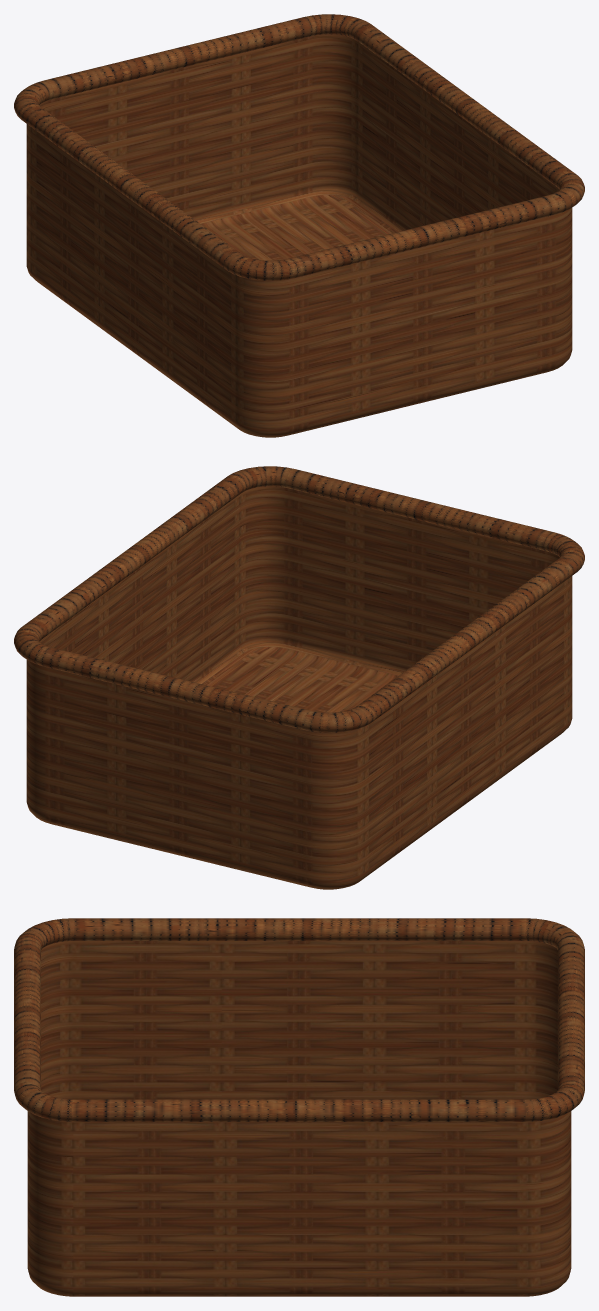
File: basket_3.glb
3 views of the same model, one above another, from view 1: azimuth 30°, elevation 25°; view 2: azimuth 150°, elevation 25°; view 3: azimuth 270°, elevation 25° (orthographic). The views are drawn at different scales.
Parts seen in each view (by area): view 1: Cube.005, Cube.001; view 2: Cube.005, Cube.001; view 3: Cube.005, Cube.001.
Part boxes in pixels (bbox=[...]): Cube.005: bbox=[26, 34, 572, 437]; Cube.001: bbox=[14, 14, 584, 280]; Cube.005: bbox=[26, 486, 572, 889]; Cube.001: bbox=[14, 466, 584, 732]; Cube.005: bbox=[27, 941, 571, 1296]; Cube.001: bbox=[14, 918, 584, 1121].
Size of the model in its own units: 0.1593 by 0.078 by 0.1991.
2 materials, 2 textured.
